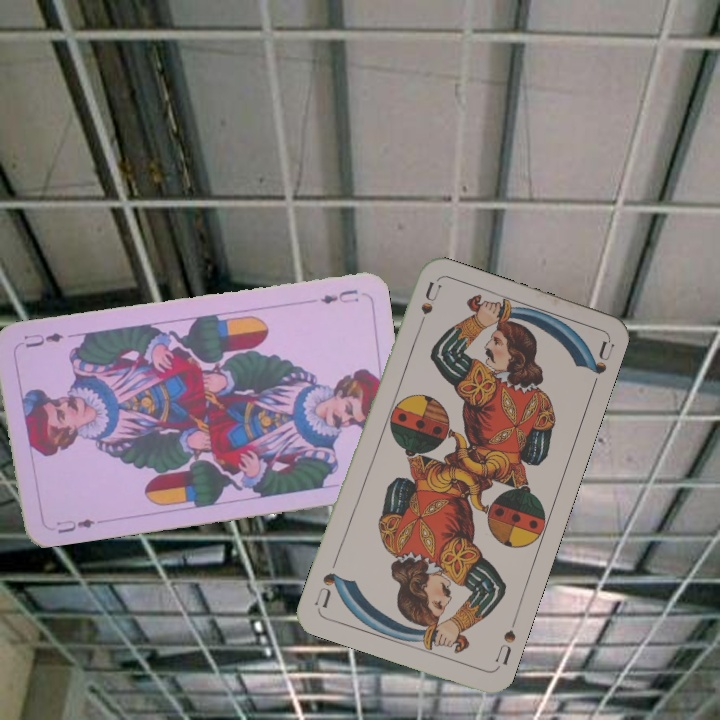EU: (317, 285, 361, 307), (52, 515, 98, 536)
SU: (412, 278, 442, 337), (491, 614, 520, 668)
